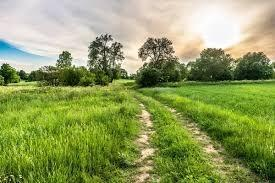field: (0, 80, 274, 182)
road: (122, 88, 269, 181)
